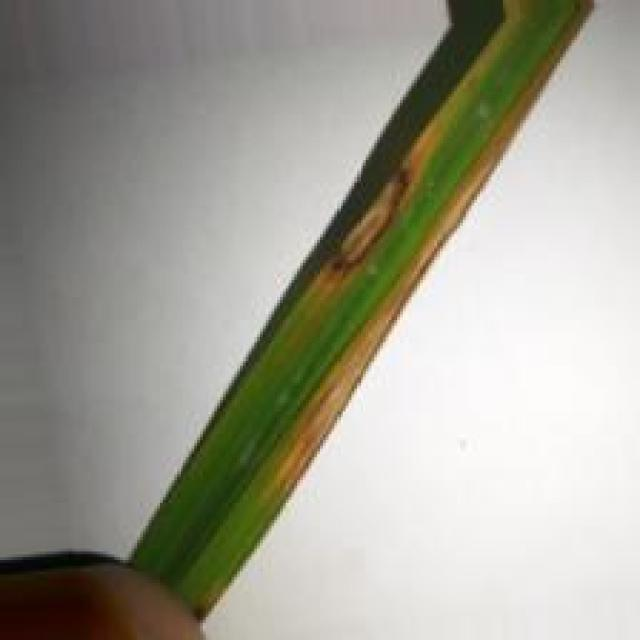Leaf_Blast: (284, 7, 580, 506), (295, 15, 521, 328)
